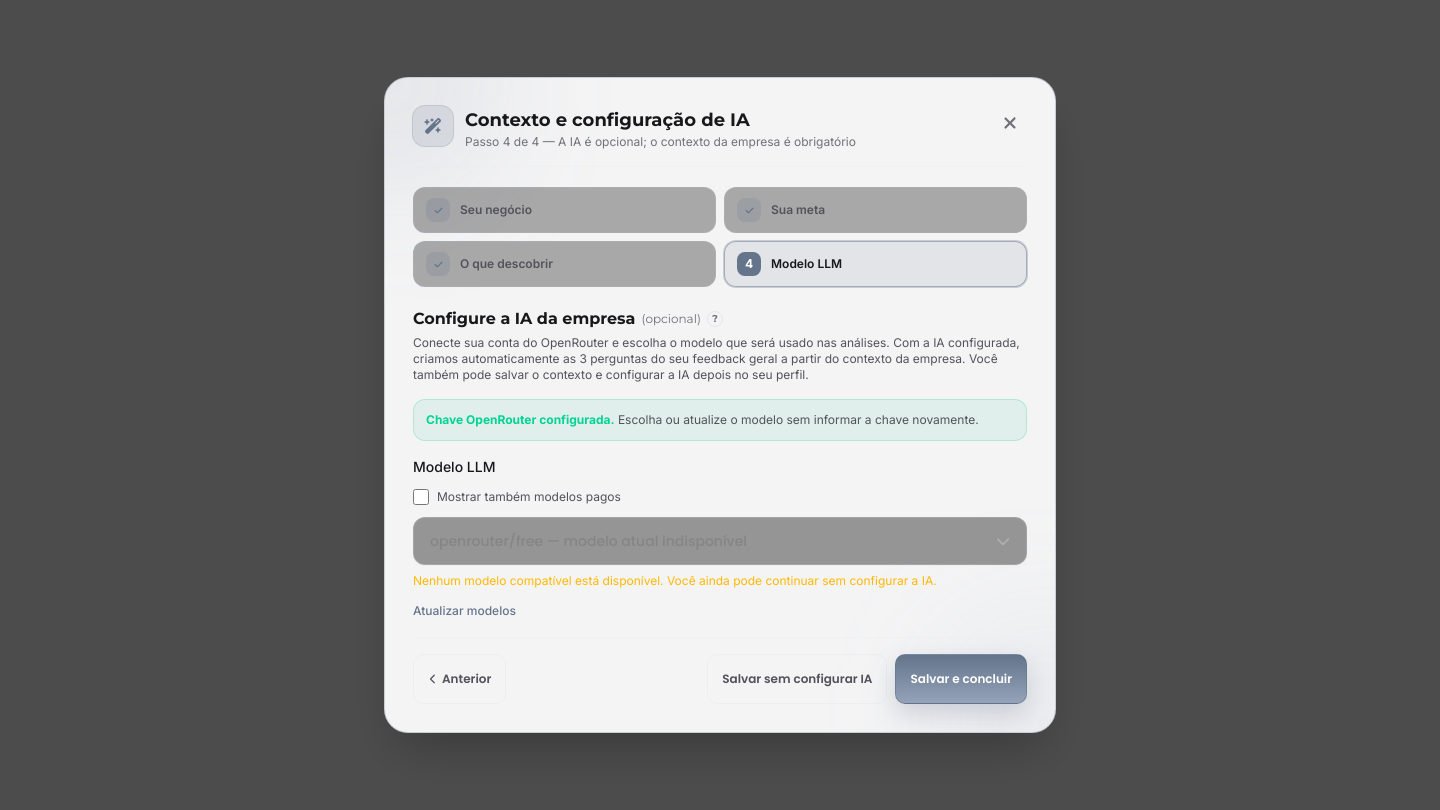
[Unidade] Componentes e Contexto de Onboarding › sem chave, oferece Conectar com OpenRouter e volta do OpenRouter com o contexto digitado, já na etapa da IA
Expected: the text "Chave OpenRouter configurada." is shown, [426,412,614,427]
Click the button with aria-label "1. Seu negócio": (496,210) [413,187,716,233]
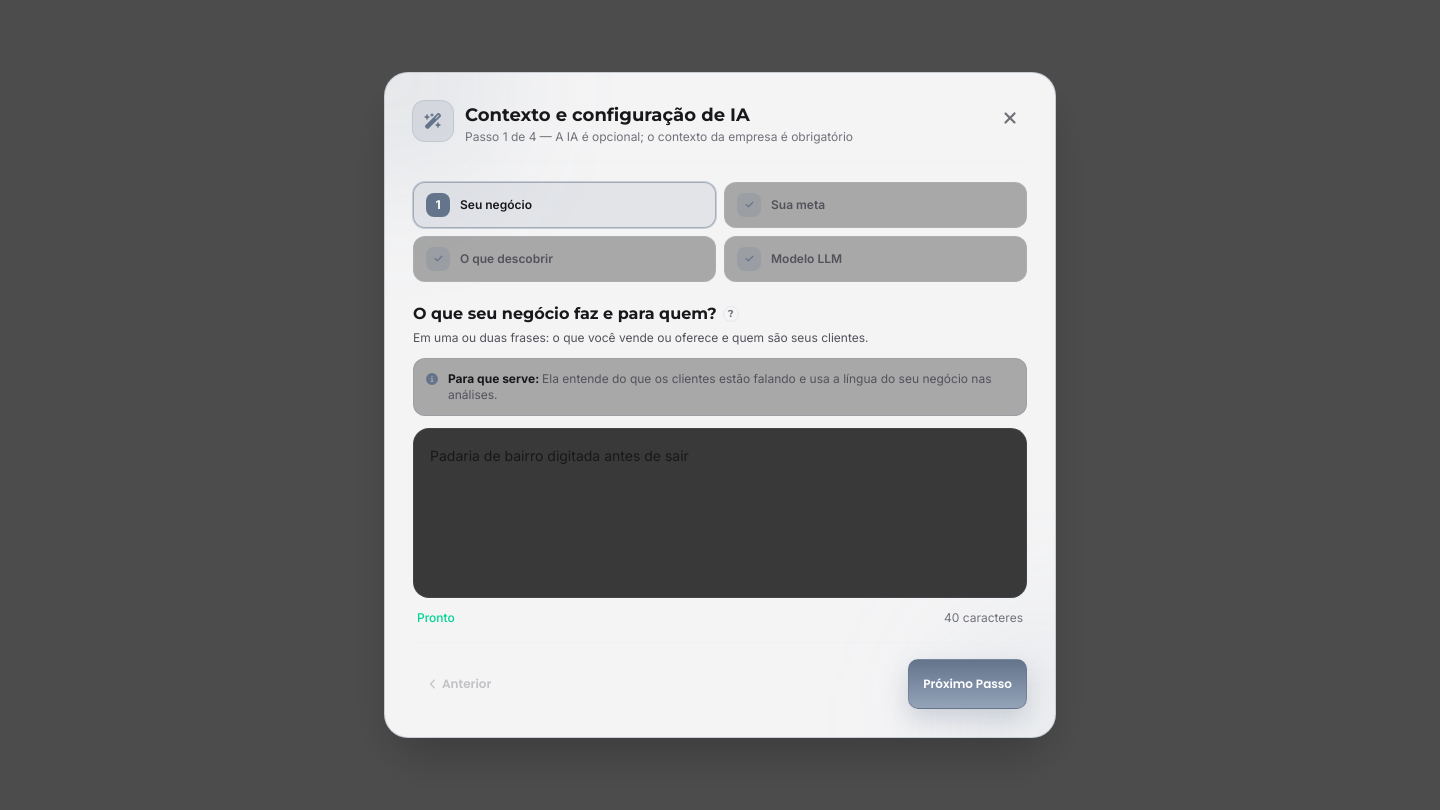
Result: the text box with placeholder "Padaria de bairro com pães artesanais" holds "Padaria de bairro digitada antes de sair" at [413,428,1027,598]
